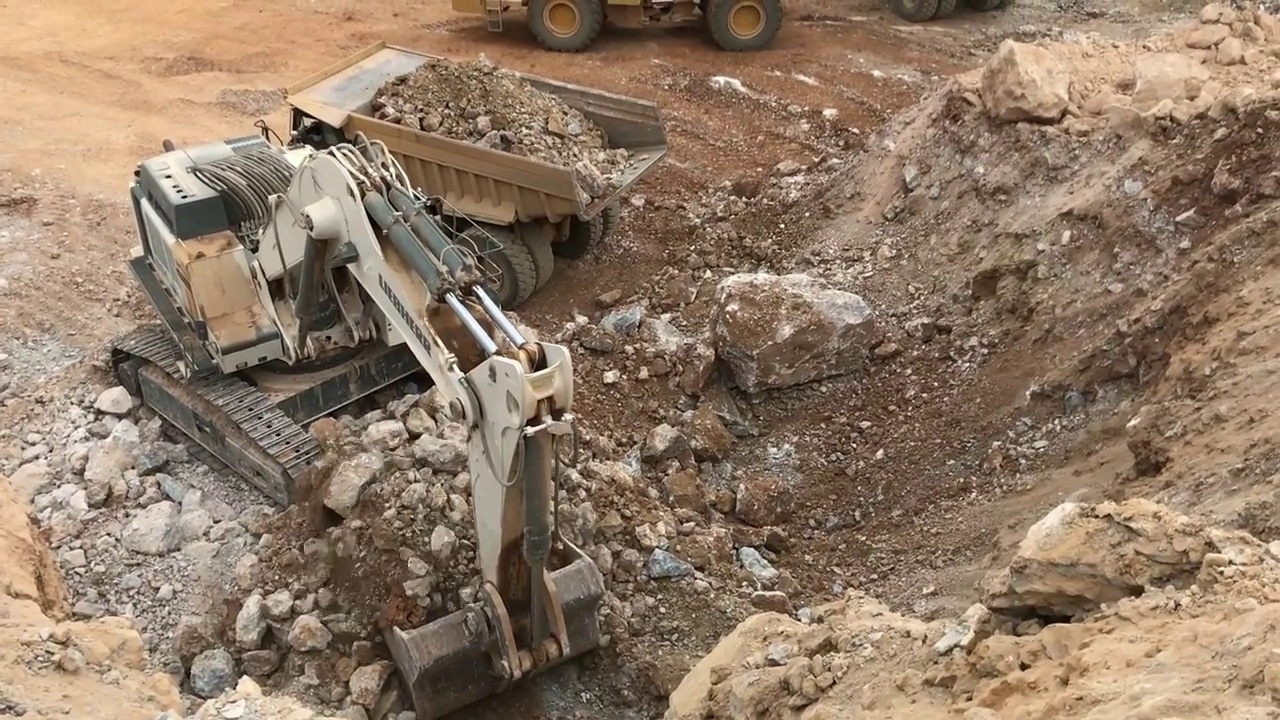dumper: (276, 41, 672, 310)
excavator: (113, 132, 613, 714)
